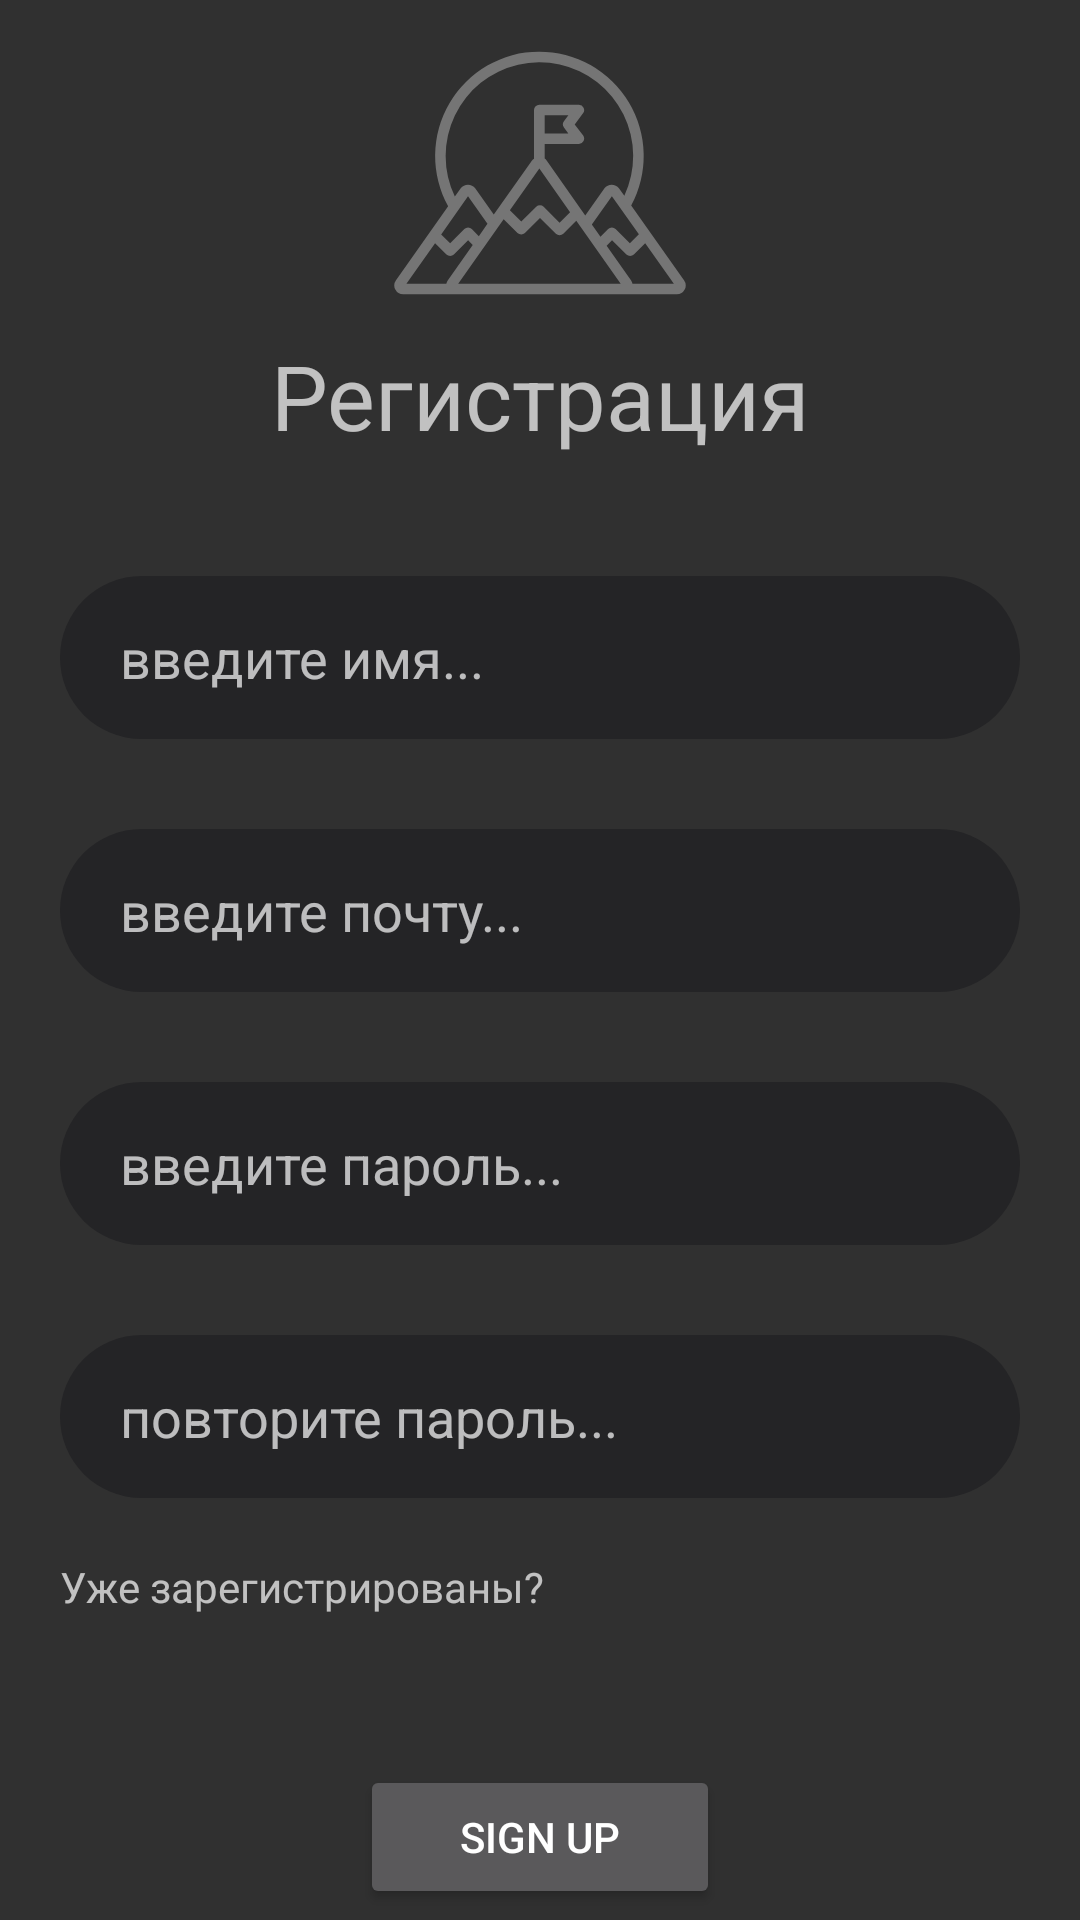

Screen size 1080×1920. Icon name, then its center in pixels as point (x, y):
challenge: point (540, 173)
